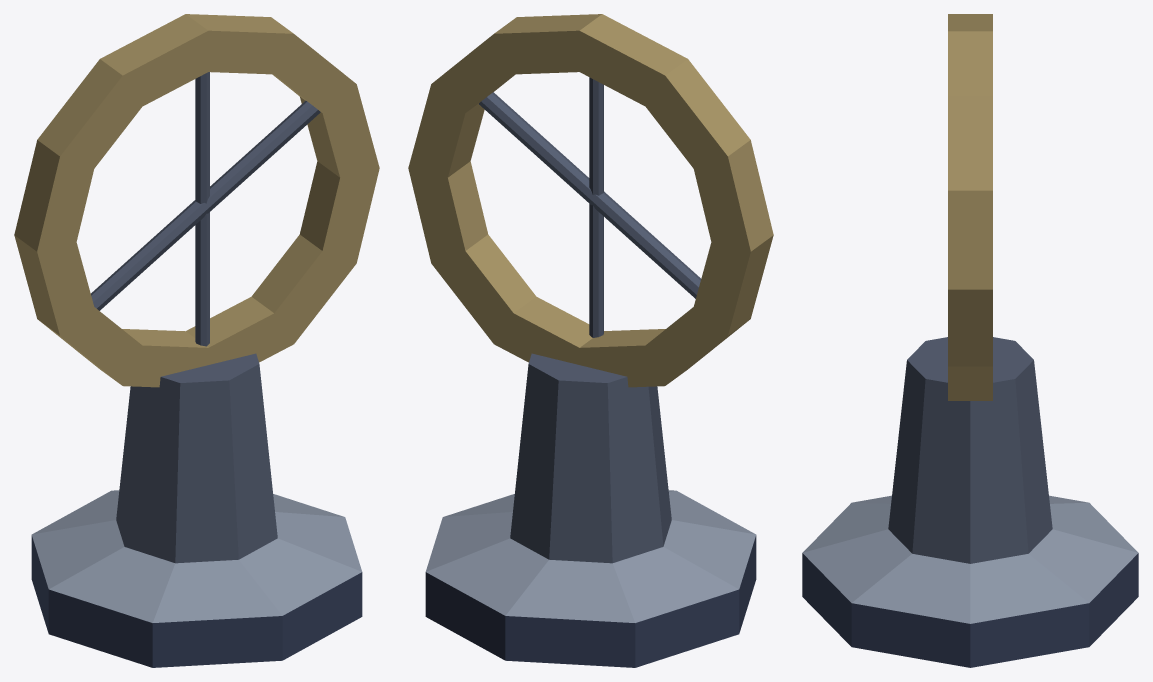
The model's file is astrolabe.glb.
3 renders of one model, left to right at view 1: azimuth 30°, elevation 25°; view 2: azimuth 150°, elevation 25°; view 3: azimuth 270°, elevation 25°, orthographic.
Visible parts, largest first — view 1: astrolabe__body; view 2: astrolabe__body; view 3: astrolabe__body.
Boxes of the visible parts, box(x1,y1,x2,y2) form: astrolabe__body: box(14, 14, 379, 667); astrolabe__body: box(408, 14, 773, 667); astrolabe__body: box(802, 14, 1138, 667).
Size of the model in its own units: 1.04 by 1.67 by 0.9.
